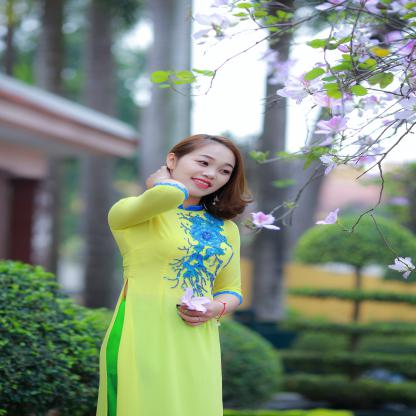Eye: (218, 168, 231, 175), (194, 160, 209, 166)
Mouth: (189, 177, 212, 189)
Nose: (202, 167, 218, 179)
